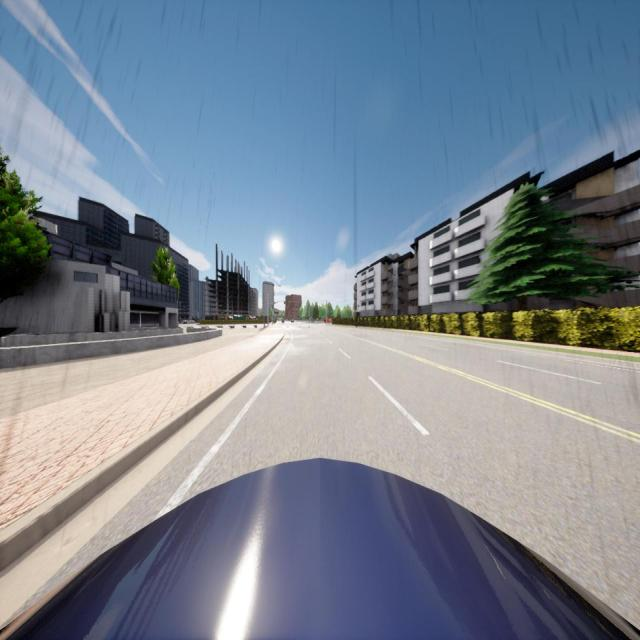Vehicle: (0, 457, 640, 640), (281, 319, 285, 323), (291, 319, 294, 323)
